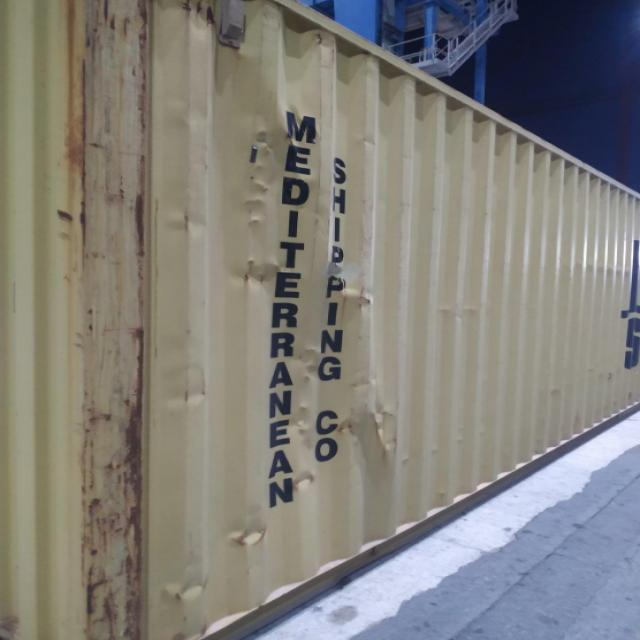dent: (213, 84, 443, 531)
